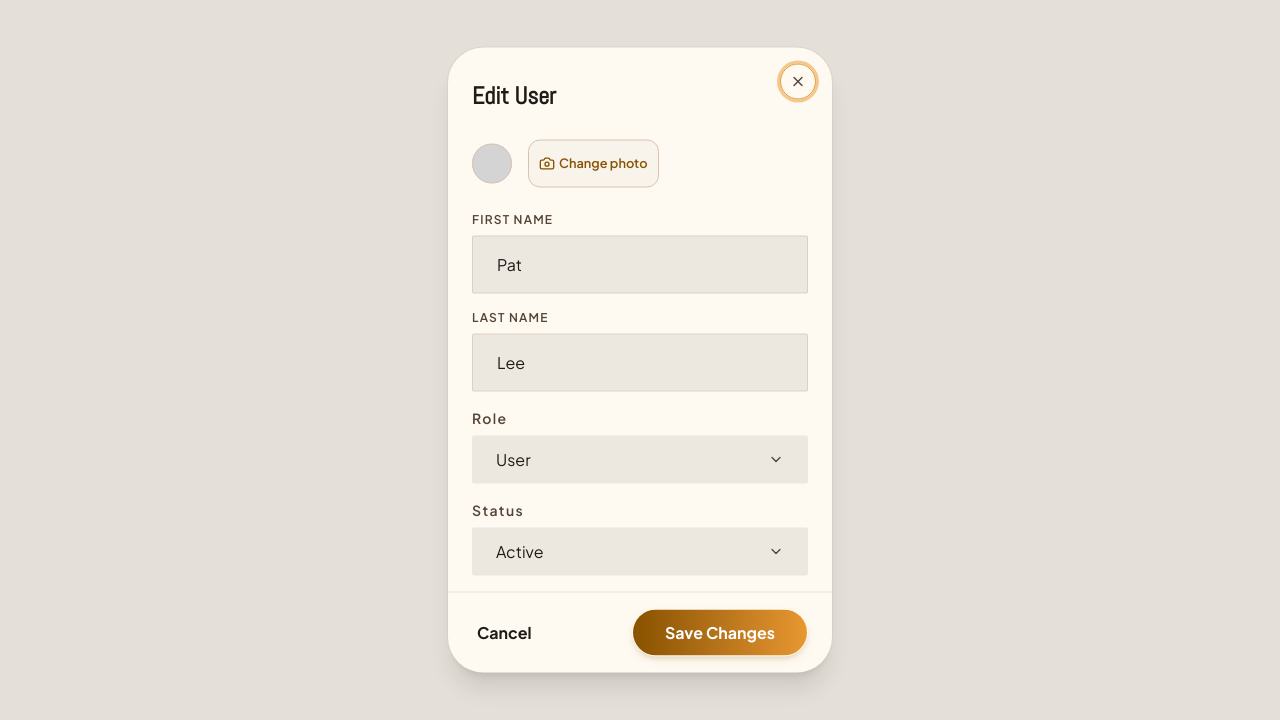
Test: EditUserForm › shows a generic error when there is no target user id
This screenshot has width=1280, height=720.
Expected: the field labelled "First Name" holds "Pat", [472,236,808,294]
Click the button "Save Changes": (720, 632) [632,608,808,656]
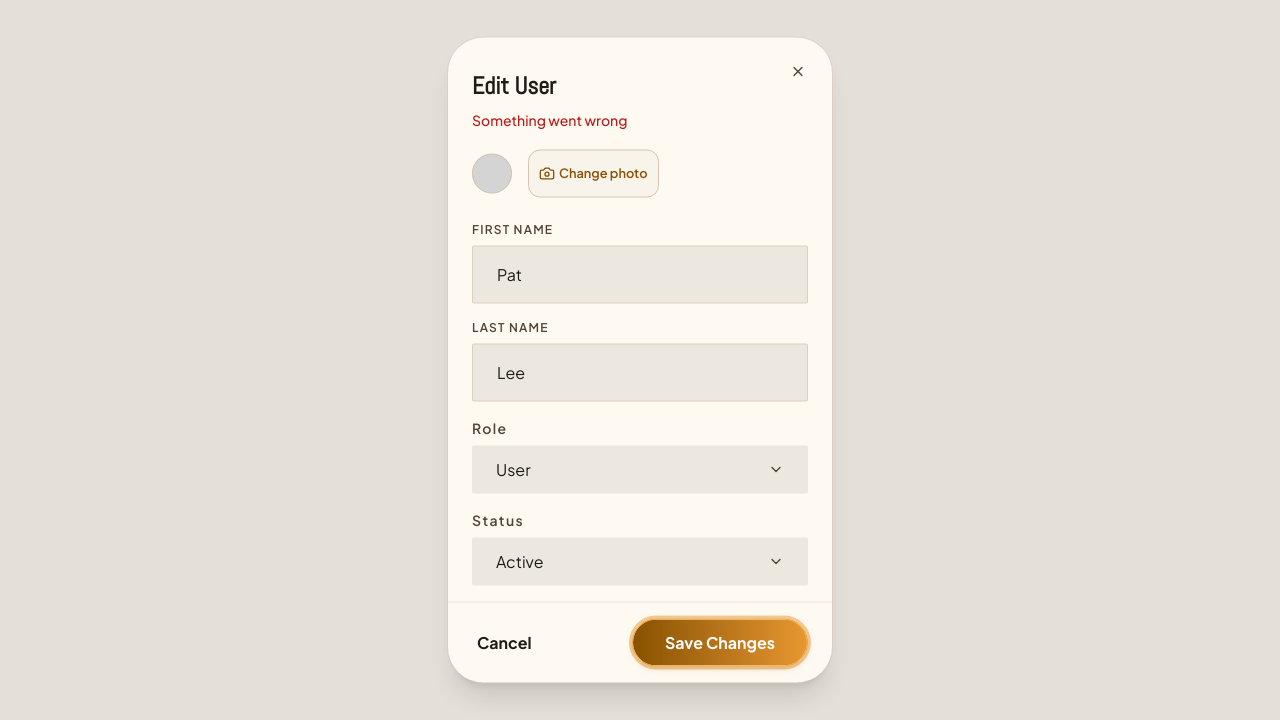
Result: the text "Something went wrong" is shown at [472,110,627,130]
